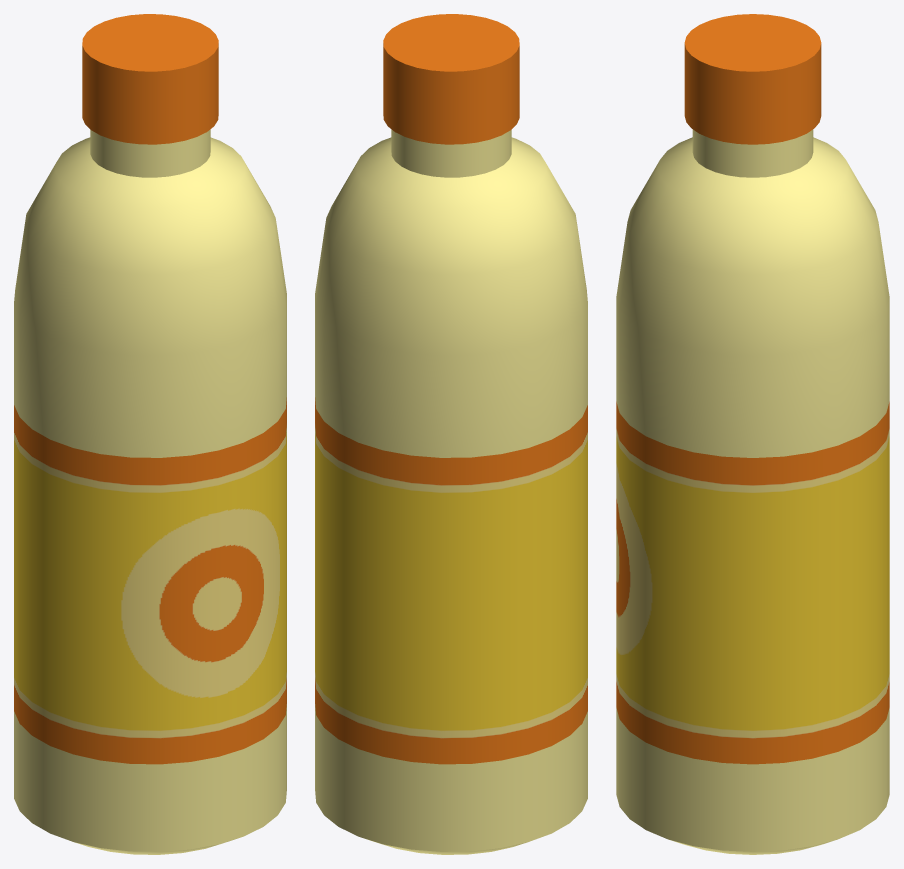
The model's file is Lemonade.fbx.
The picture shows the model from 3 angles, left to right: view 1: azimuth 30°, elevation 25°; view 2: azimuth 150°, elevation 25°; view 3: azimuth 270°, elevation 25°; orthographic projection.
Parts seen in each view (by area): view 1: Lemonade; view 2: Lemonade; view 3: Lemonade.
Part boxes in pixels (x1,y1,x2,y2): Lemonade: (14, 14, 286, 854); Lemonade: (315, 14, 587, 854); Lemonade: (616, 14, 889, 854).
Bounding box in the file's own units: 0.068 × 0.21 × 0.068.
Materials: 3 (1 with a texture image).
